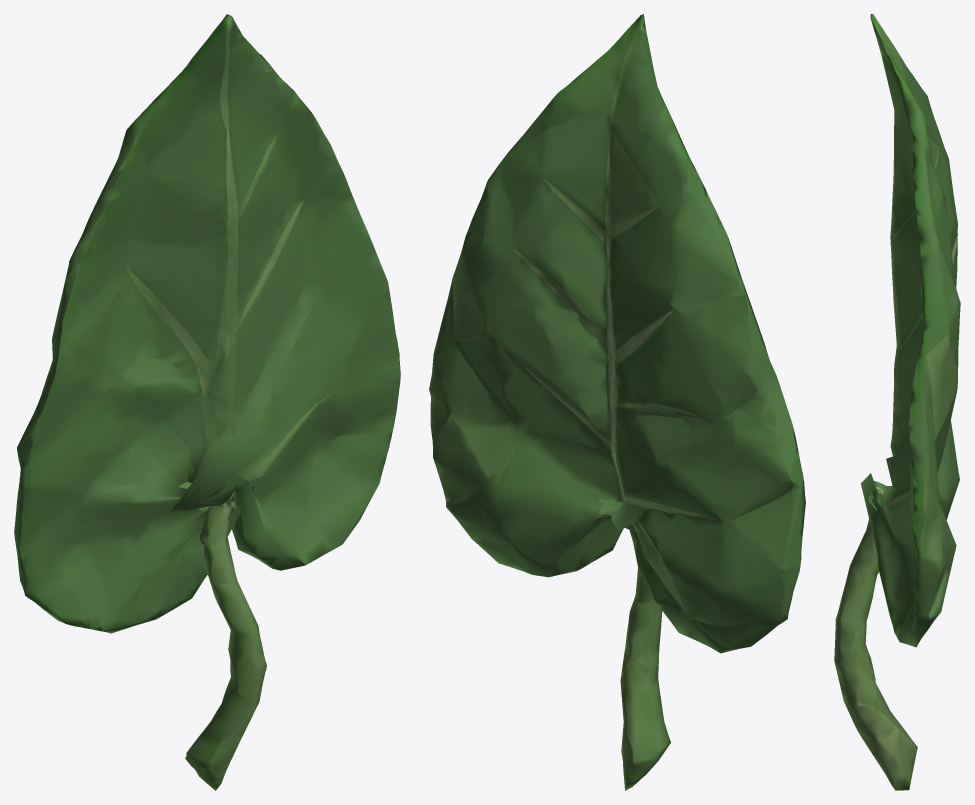
The model's file is sc_leaf_mid.glb.
3 views of the same model, side by side, from view 1: azimuth 30°, elevation 25°; view 2: azimuth 150°, elevation 25°; view 3: azimuth 270°, elevation 25° (orthographic). The views are drawn at different scales.
Visible parts, largest first — view 1: tripo_node_f7c7ac50-ed83-4cce-b5a6-af09d7b1b476; view 2: tripo_node_f7c7ac50-ed83-4cce-b5a6-af09d7b1b476; view 3: tripo_node_f7c7ac50-ed83-4cce-b5a6-af09d7b1b476.
Boxes of the visible parts, x1,y1,x2,y2 form: tripo_node_f7c7ac50-ed83-4cce-b5a6-af09d7b1b476: (14, 14, 400, 790); tripo_node_f7c7ac50-ed83-4cce-b5a6-af09d7b1b476: (429, 14, 805, 790); tripo_node_f7c7ac50-ed83-4cce-b5a6-af09d7b1b476: (834, 14, 960, 790).
Bounding box in the file's own units: 0.6112 × 1.21 × 0.1784.
1 material, 1 textured.
